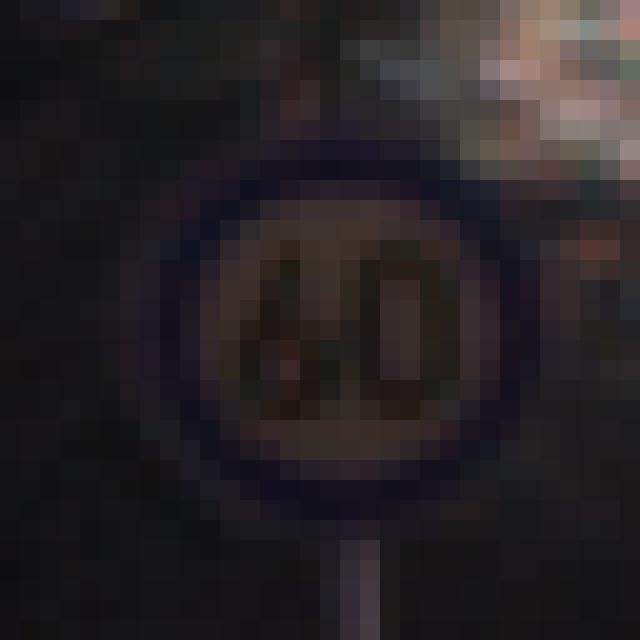SPEED-LIMIT-60: (78, 94, 548, 550)
